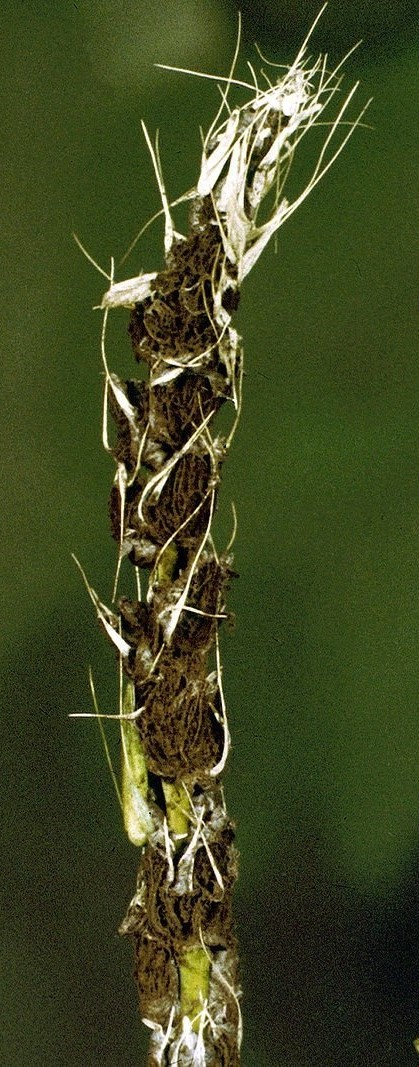Wheat Loose Smut: (50, 208, 315, 937)
